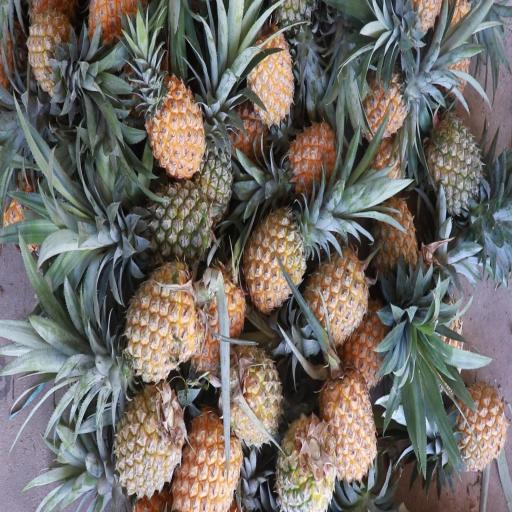Pineapple - v8 v1: (113, 374, 191, 497), (124, 266, 200, 389), (240, 186, 307, 319), (302, 232, 373, 356), (172, 406, 247, 512), (142, 72, 210, 187), (215, 333, 283, 445), (318, 362, 377, 484), (238, 22, 297, 127), (449, 381, 508, 482), (370, 178, 425, 278), (282, 110, 337, 206), (25, 0, 76, 102), (358, 60, 412, 146)
